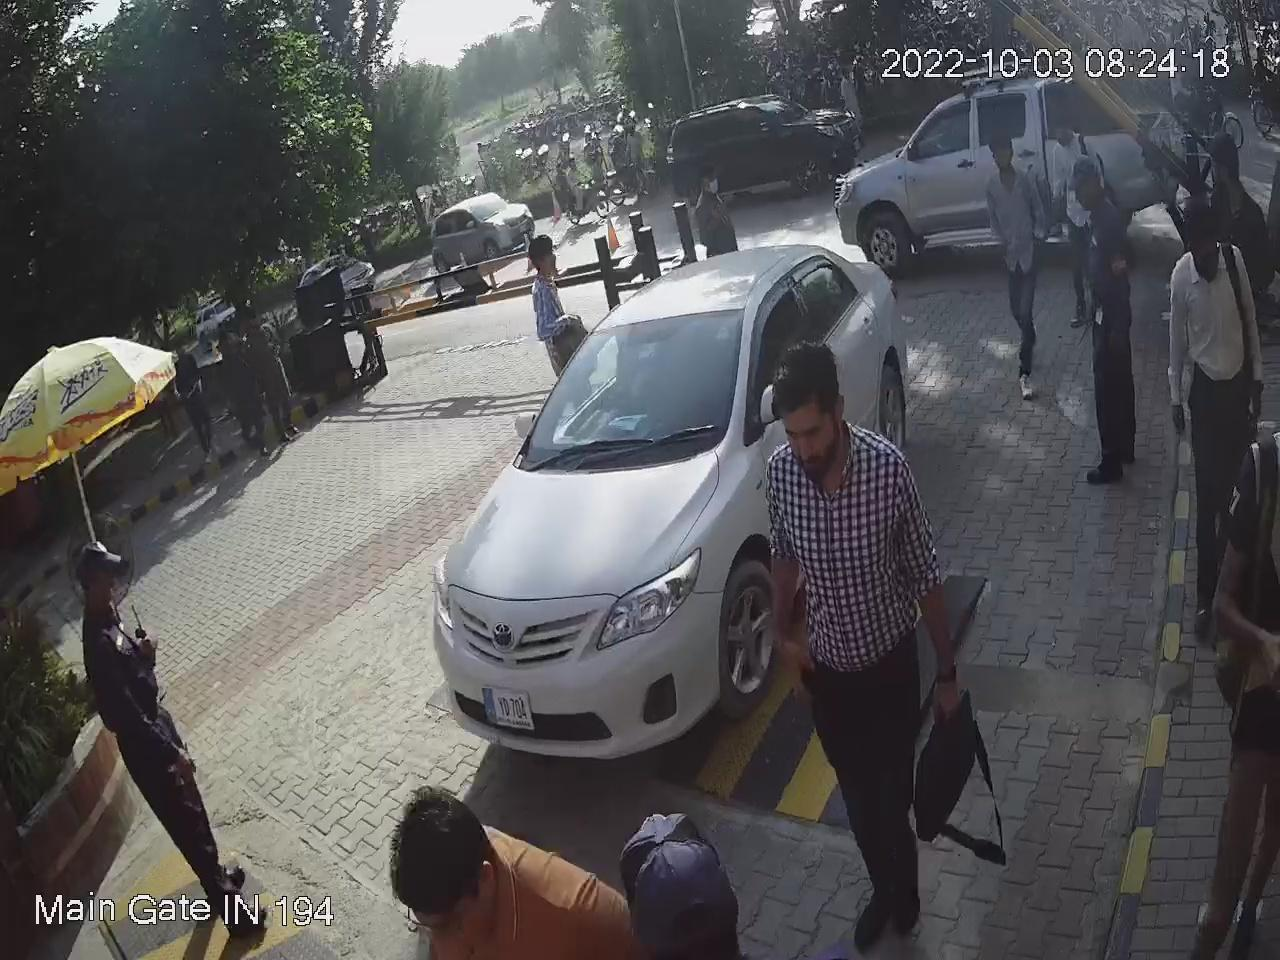windshield: (513, 308, 753, 460)
